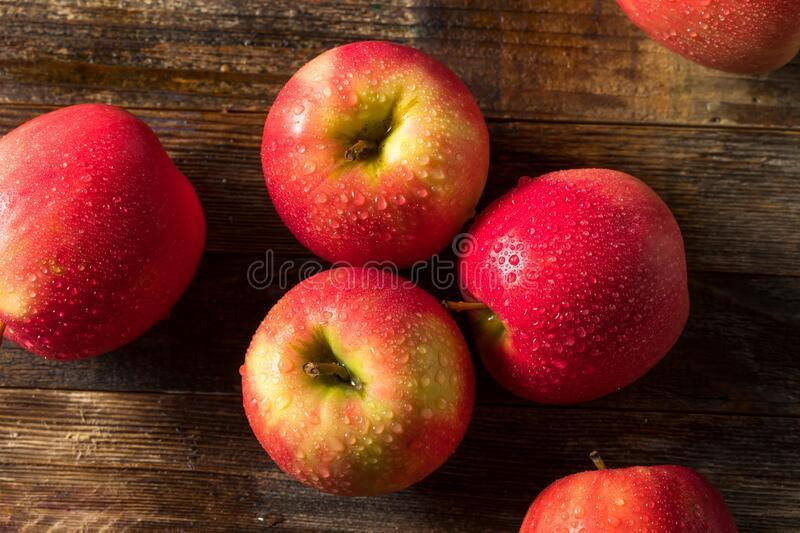apple: (453, 169, 692, 409), (258, 39, 491, 278), (240, 268, 478, 499), (2, 101, 210, 359), (518, 463, 735, 533)
